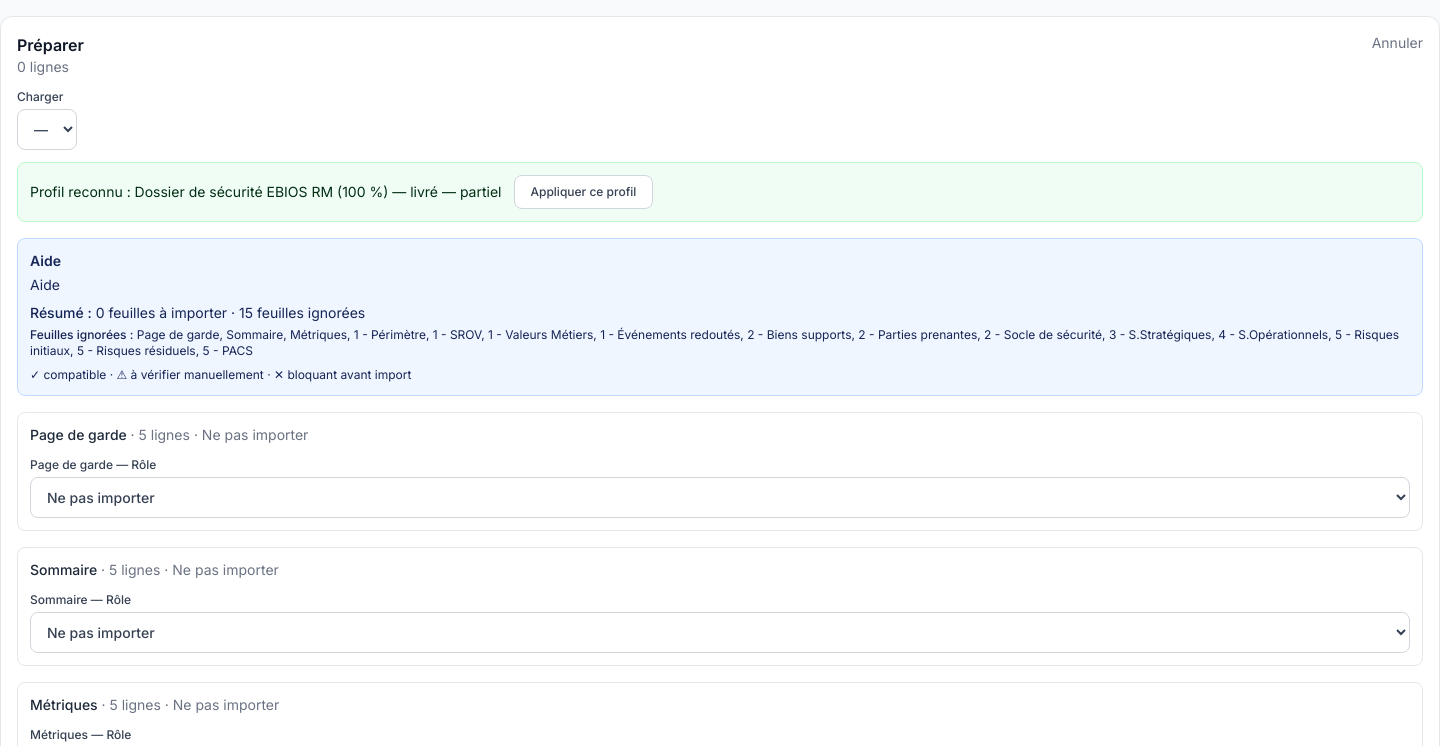
Test case: HistoricImportPreview — profil reconnu (lot I4) › propose le profil livré et l’applique : rôles et colonnes chargés
expect the message shows "Profil reconnu : Dossier de sécurité EBIOS RM (100 %)": met, box [30,183,388,200]
Click the button "Appliquer ce profil" at (583, 192), box [514,175,653,209]
(page scrolled)
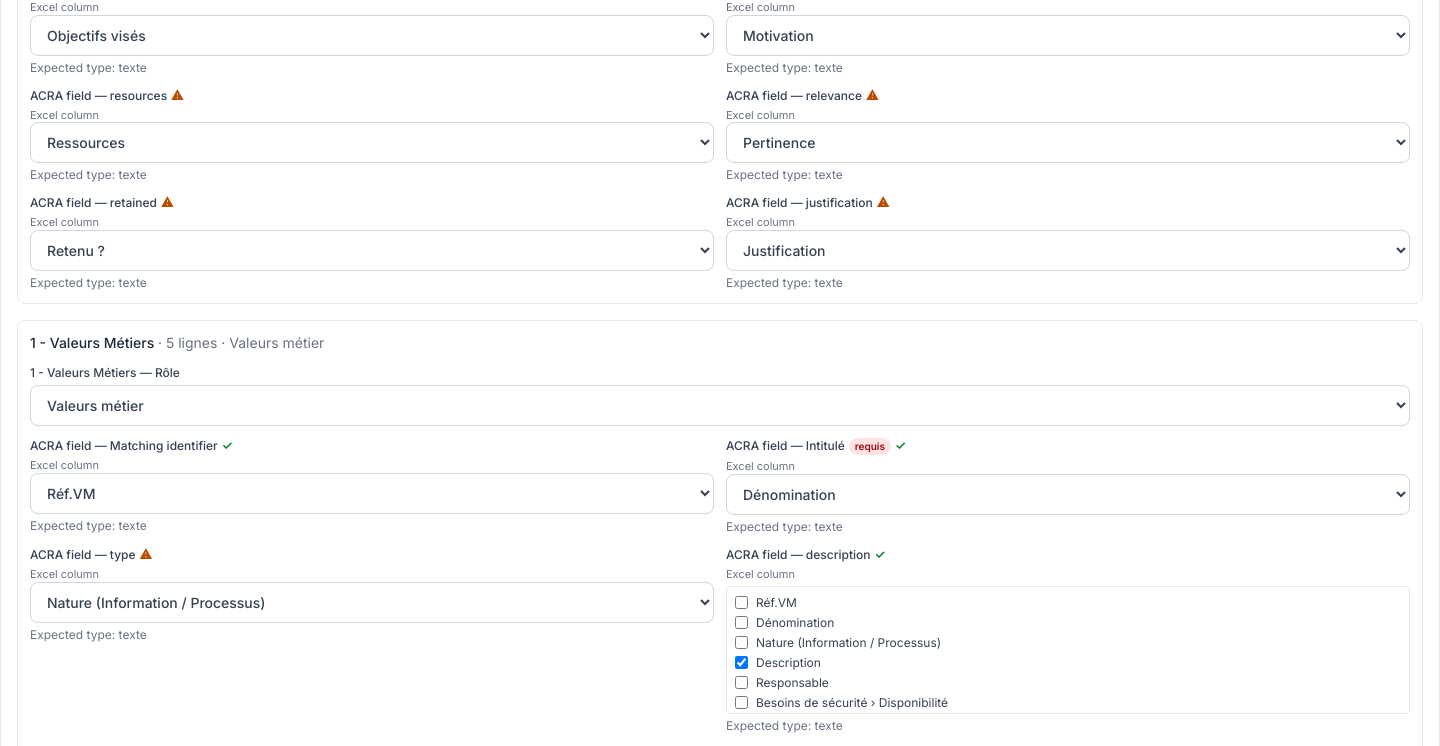
expect the dropdown labelled "1 - Valeurs Métiers — Rôle" shows "Valeurs métier": met, box [30,385,1410,426]
